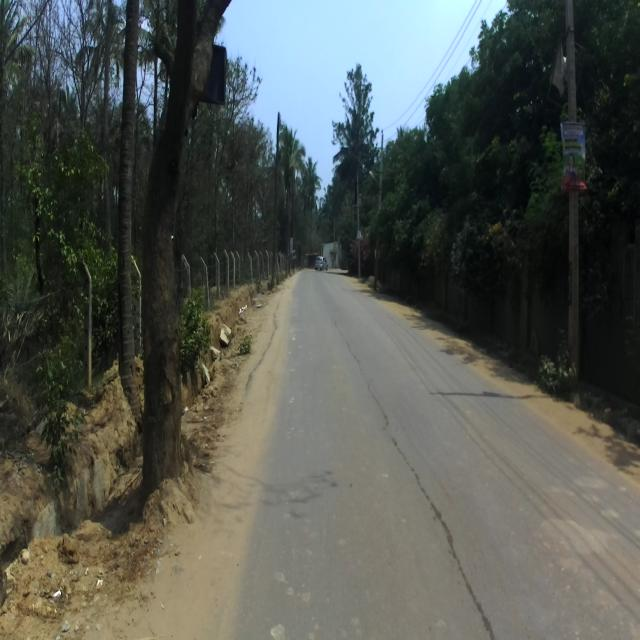tree ahead at: (135, 0, 228, 519)
